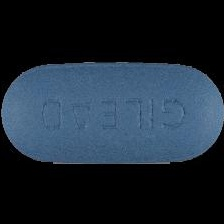61958-0701: (0, 0, 224, 224)
